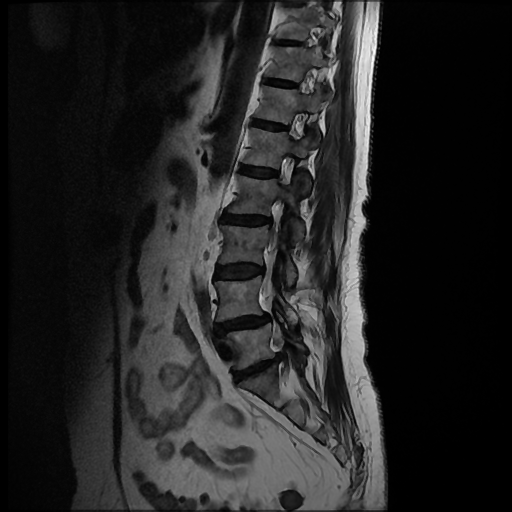LFS0: (261, 145, 303, 192)
